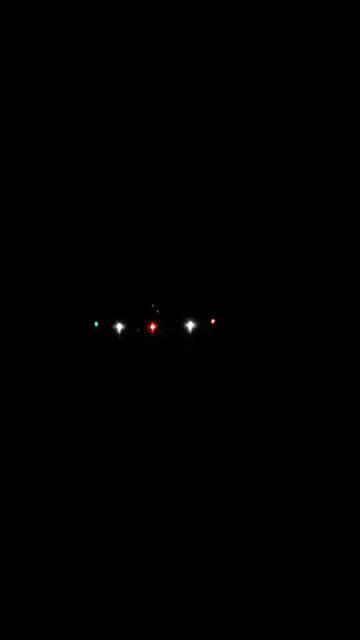Plane: (84, 295, 237, 357)
